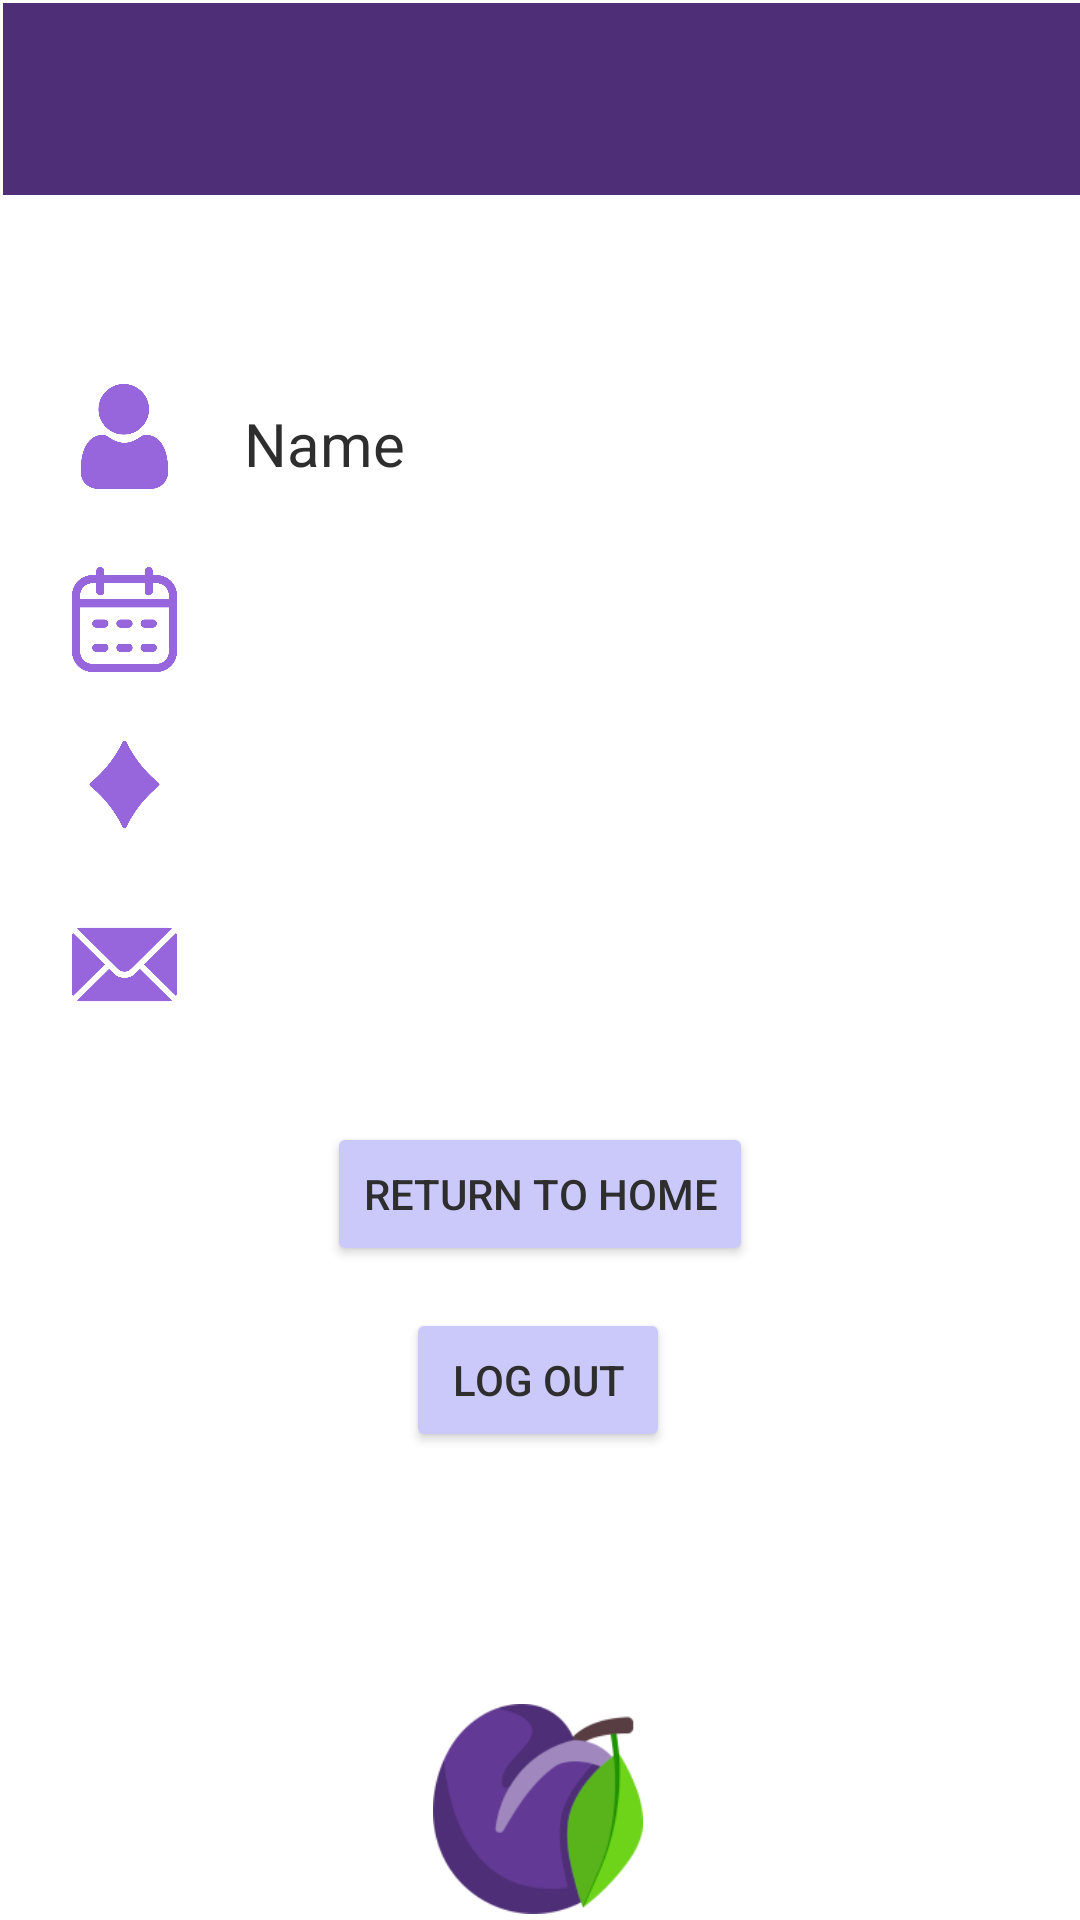

Icon click points for this 1080 × 1920 phone screenshot, format [x,y]:
calendar: [124,619]
diamond: [124,784]
habitquest plum: [538,1809]
mail: [124,964]
user: [124,436]
